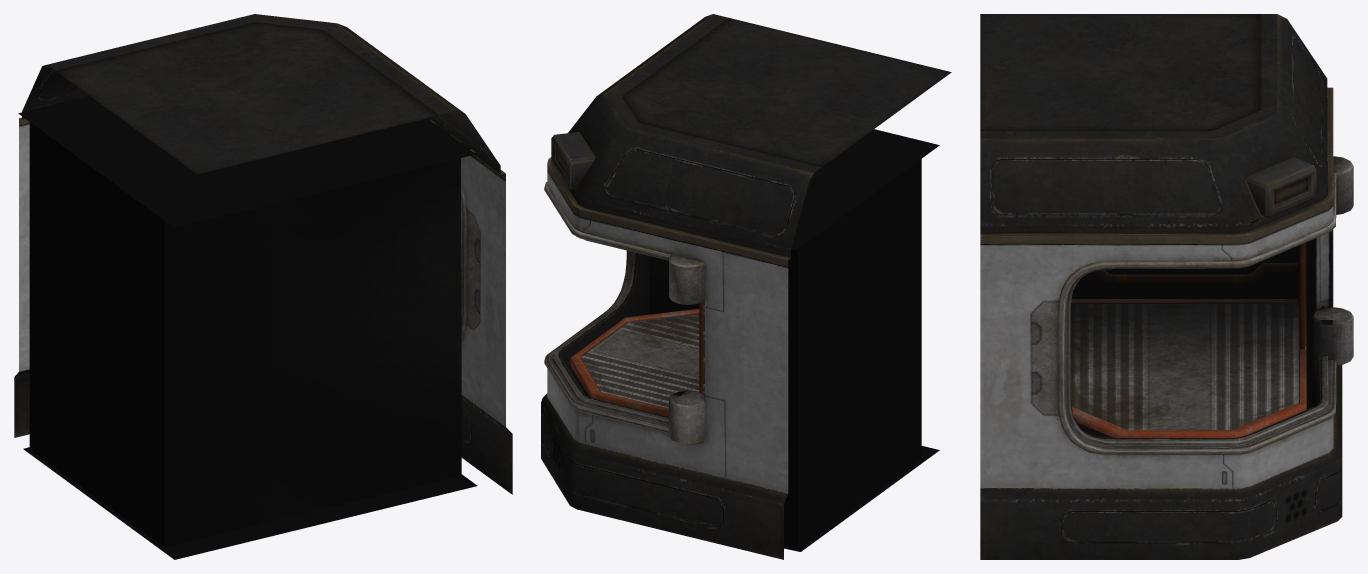
Rendered from cargo_elevator_tau_right.dae.
The picture shows the model from 3 angles, left to right: view 1: azimuth 30°, elevation 25°; view 2: azimuth 150°, elevation 25°; view 3: azimuth 270°, elevation 25°; orthographic projection. The views are drawn at different scales.
Visible parts, largest first — view 1: box; view 2: box; view 3: box.
Boxes of the visible parts, x1=… form: box: x1=14, y1=14, x2=512, y2=559; box: x1=541, y1=14, x2=951, y2=559; box: x1=980, y1=14, x2=1353, y2=559.
Size of the model in its own units: 2.59 by 3.07 by 2.64.
